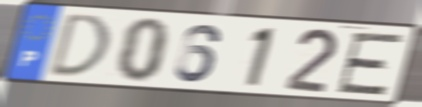0: (112, 16, 173, 85)
1: (243, 25, 278, 89)
2: (284, 27, 338, 95)
6: (174, 22, 222, 84)
D: (45, 12, 113, 79)
E: (333, 31, 408, 97)
